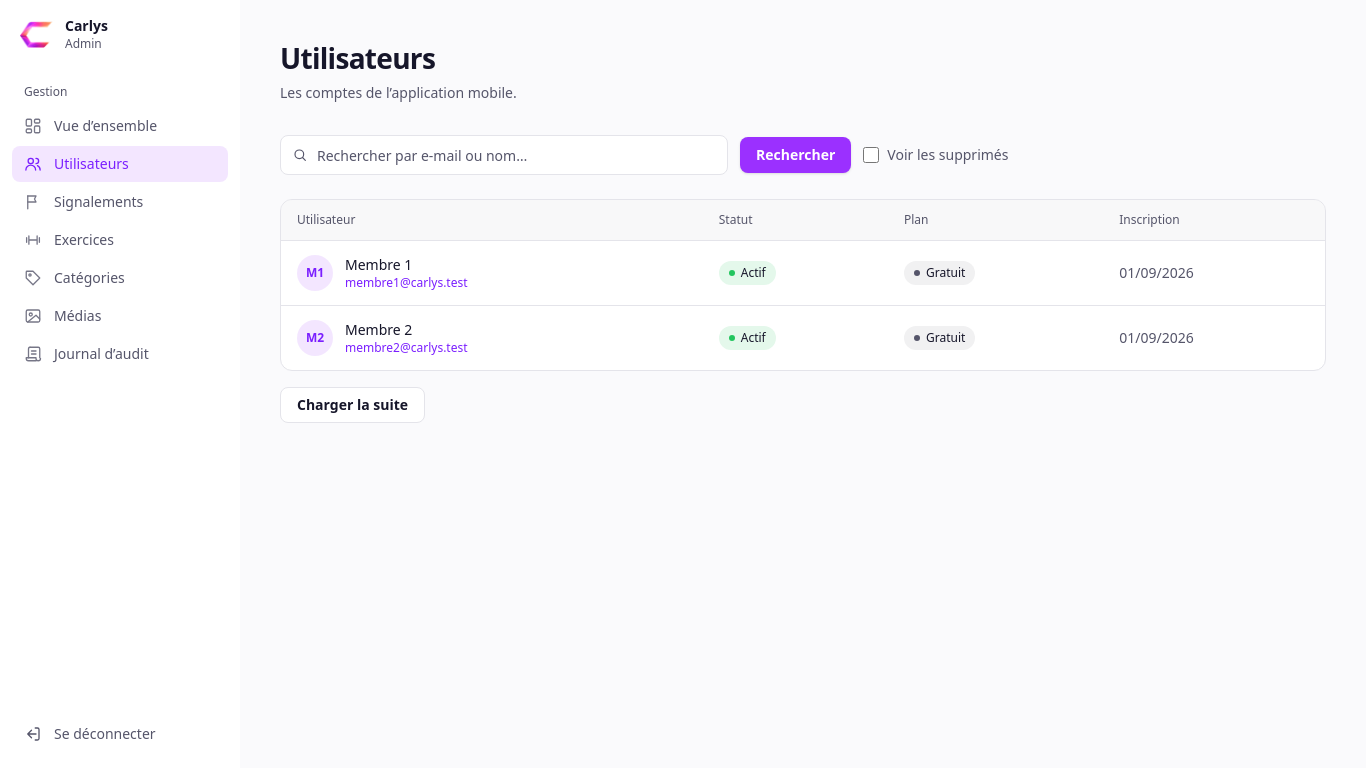
Test case: Page Utilisateurs › « Charger la suite » va chercher la page suivante et l’ajoute à la liste
The width and height of the screenshot is (1366, 768).
Expected: the link "membre1@carlys.test" is shown, [345,275,468,291]
Click the button "Charger la suite" at (353, 405), box [280,387,425,423]
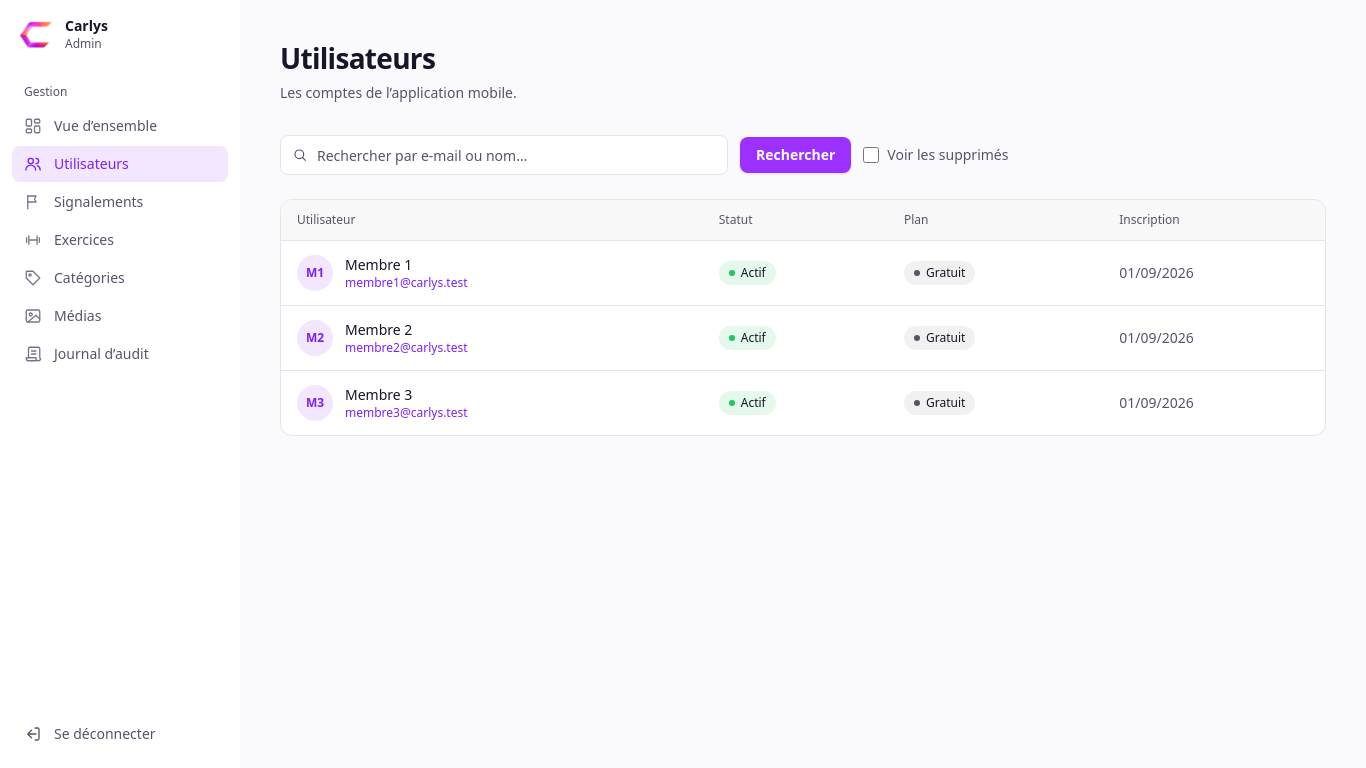
Expected: the link "membre1@carlys.test" is shown, [345,275,468,291]
Now the link "membre3@carlys.test" is shown, box [345,405,468,421]
